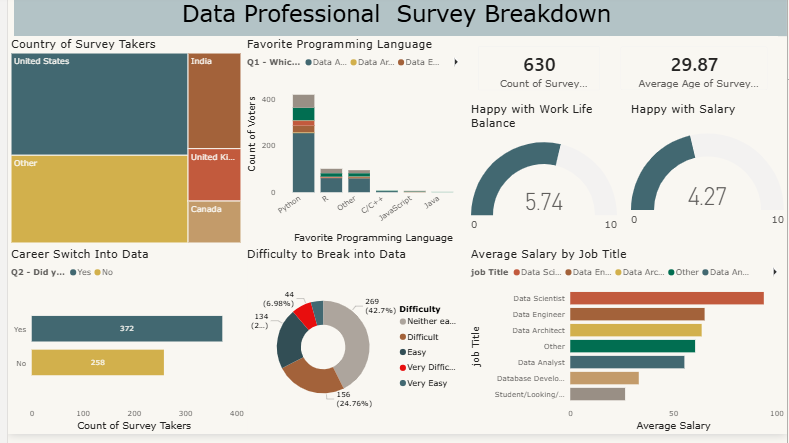

The dashboard page shown, as its layout file describes it:
{"tool":"powerbi","page":{"name":"Page 1","canvas":[1280,720],"ordinal":0},"visuals":[{"type":"textbox","box":[10.1,0,1269.9,65.5],"z":0},{"type":"cardVisual","fields":{"Data":["Count(Data Professional Survey.Unique ID)"]},"box":[755.8,65.7,233.3,106.8],"z":1000},{"type":"cardVisual","fields":{"Data":["Avg(Data Professional Survey.Q10 - Current Age)"]},"box":[989.2,65.7,276,106.8],"z":2000},{"type":"barChart","title":"Average Salary by Job Title","fields":{"Category":["Data Professional Survey.Q1 - Which Title Best Fits your Current Role?.1"],"Y":["Avg(Data Professional Survey.Average Salary)"],"Series":["Data Professional Survey.Q1 - Which Title Best Fits your Current Role?.1"]},"box":[755.8,410.8,524.2,308.9],"z":3000},{"type":"columnChart","title":"Favorite Programming Language","fields":{"Category":["Data Professional Survey.Q5 - Favorite Programming Language.1"],"Y":["Count(Data Professional Survey.Unique ID)"],"Series":["Data Professional Survey.Q1 - Which Title Best Fits your Current Role?.1"]},"box":[387.8,65.7,368.1,345.1],"z":4000},{"type":"gauge","title":"Happy with Work Life Balance","fields":{"Y":["Avg(Data Professional Survey.Q6 - How Happy are you in your Current Position with the following? (Work/Life Balance))"],"MinValue":["Min(Data Professional Survey.Q6 - How Happy are you in your Current Position with the following? (Work/Life Balance))1"],"MaxValue":["Max(Data Professional Survey.Q6 - How Happy are you in your Current Position with the following? (Work/Life Balance))2"]},"box":[755.8,172.5,249.8,238.3],"z":5000},{"type":"gauge","title":"Happy with Salary","fields":{"Y":["Avg(Data Professional Survey.Q6 - How Happy are you in your Current Position with the following? (Salary))"],"MinValue":["Min(Data Professional Survey.Q6 - How Happy are you in your Current Position with the following? (Salary))"],"MaxValue":["Max(Data Professional Survey.Q6 - How Happy are you in your Current Position with the following? (Salary))"]},"box":[1018.7,172.5,261.3,238.3],"z":6000},{"type":"donutChart","title":"Difficulty to Break into Data","fields":{"Category":["Data Professional Survey.Q7 - How difficult was it for you to break into Data?"],"Y":["CountNonNull(Data Professional Survey.Q7 - How difficult was it for you to break into Data?)"]},"box":[387.8,410.8,368.1,308.9],"z":7000},{"type":"barChart","title":"Career Switch Into Data","fields":{"Category":["Data Professional Survey.Q2 - Did you switch careers into Data?"],"Y":["Count(Data Professional Survey.Unique ID)"],"Series":["Data Professional Survey.Q2 - Did you switch careers into Data?"]},"box":[0,410.8,392.7,308.9],"z":8000},{"type":"treemap","title":"Country of Survey Takers","fields":{"Group":["Data Professional Survey.Q11 - Which Country do you live in?.1"],"Values":["CountNonNull(Data Professional Survey.Q11 - Which Country do you live in?.1)"]},"box":[0,65.7,387.8,345.1],"z":9000}]}

Visuals, with their boxes in screenshot pixels (x1, y1, x2, y2), scaled from the page's 1280x720 canvas onto the 789x443 screenshot:
textbox: pyautogui.locateOnScreen(6, 0, 788, 40)
cardVisual - Count(Data Professional Survey.Unique ID): pyautogui.locateOnScreen(466, 40, 610, 106)
cardVisual - Avg(Data Professional Survey.Q10 - Current Age): pyautogui.locateOnScreen(610, 40, 780, 106)
"Average Salary by Job Title" barChart: pyautogui.locateOnScreen(466, 253, 788, 442)
"Favorite Programming Language" columnChart: pyautogui.locateOnScreen(239, 40, 466, 253)
"Happy with Work Life Balance" gauge: pyautogui.locateOnScreen(466, 106, 620, 253)
"Happy with Salary" gauge: pyautogui.locateOnScreen(628, 106, 788, 253)
"Difficulty to Break into Data" donutChart: pyautogui.locateOnScreen(239, 253, 466, 442)
"Career Switch Into Data" barChart: pyautogui.locateOnScreen(0, 253, 242, 442)
"Country of Survey Takers" treemap: pyautogui.locateOnScreen(0, 40, 239, 253)
